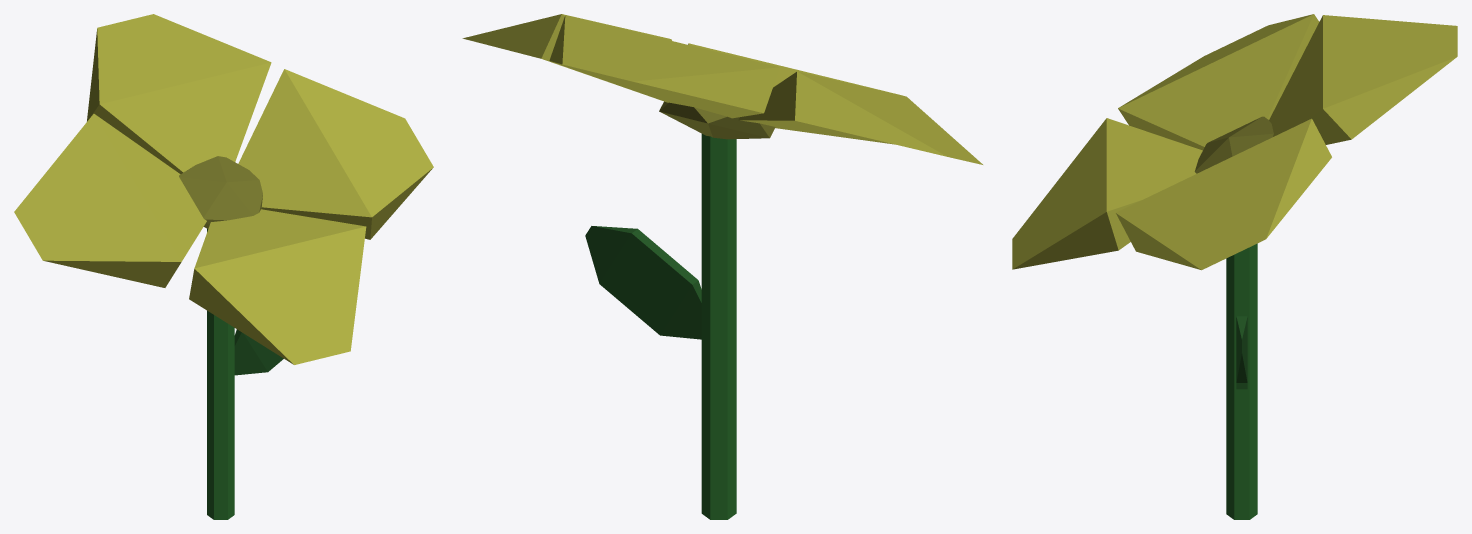
The model's file is Flower_2_Yellow.fbx.
3 views of the same model, side by side, from view 1: azimuth 30°, elevation 25°; view 2: azimuth 150°, elevation 25°; view 3: azimuth 270°, elevation 25° (orthographic). The views are drawn at different scales.
Parts seen in each view (by area): view 1: Flower_2_Yellow; view 2: Flower_2_Yellow; view 3: Flower_2_Yellow.
Boxes of the visible parts, x1=… form: Flower_2_Yellow: x1=14, y1=14, x2=433, y2=519; Flower_2_Yellow: x1=462, y1=14, x2=982, y2=519; Flower_2_Yellow: x1=1012, y1=14, x2=1457, y2=519.
Bounding box in the file's own units: 45.18 × 46.83 × 39.92.
